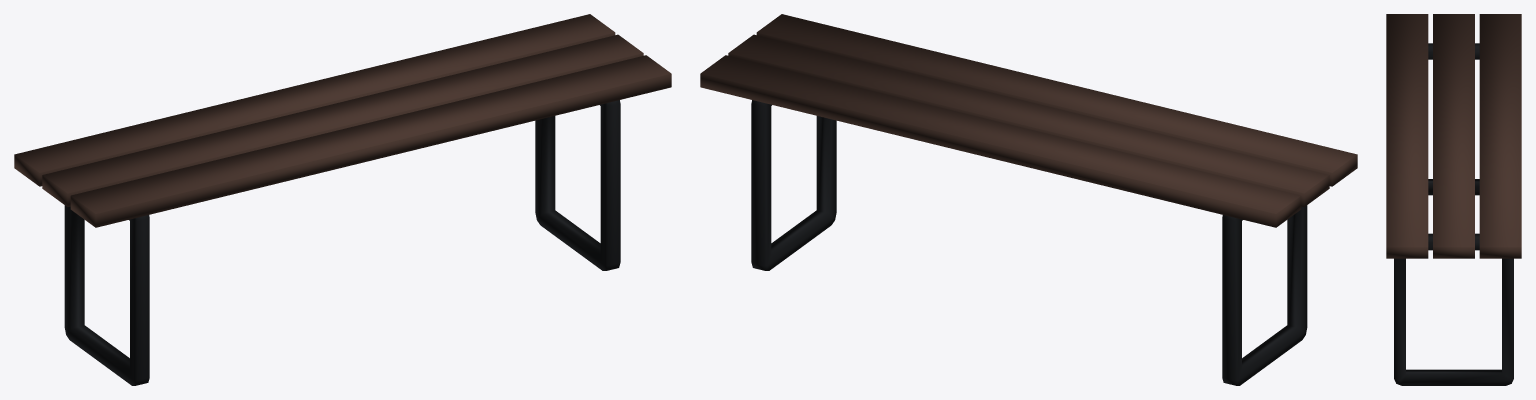
File: PROP_Bench.fbx
3 views of the same model, side by side, from view 1: azimuth 30°, elevation 25°; view 2: azimuth 150°, elevation 25°; view 3: azimuth 270°, elevation 25° (orthographic). The views are drawn at different scales.
Visible parts, largest first — view 1: Bench; view 2: Bench; view 3: Bench.
Part boxes in pixels (bbox=[...]): Bench: bbox=[14, 14, 671, 385]; Bench: bbox=[700, 14, 1357, 385]; Bench: bbox=[1386, 14, 1521, 385].
Size of the model in its own units: 1.5 by 0.4728 by 0.3676.
